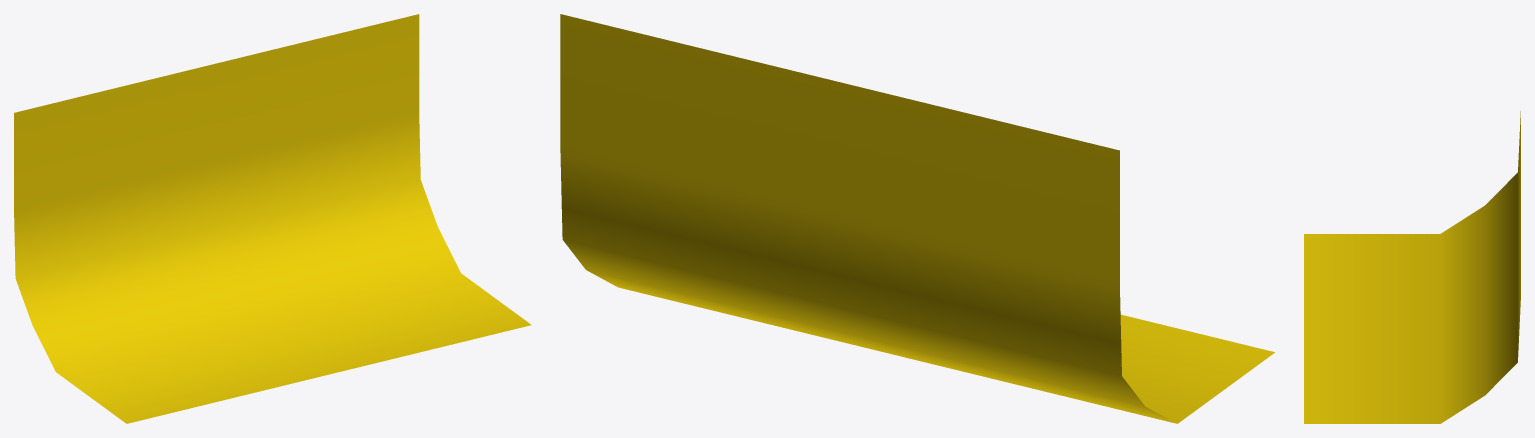
File: wild_background.gltf
3 views of the same model, side by side, from view 1: azimuth 30°, elevation 25°; view 2: azimuth 150°, elevation 25°; view 3: azimuth 270°, elevation 25° (orthographic). The views are drawn at different scales.
Visible parts, largest first — view 1: wild_background; view 2: wild_background; view 3: wild_background.
Part boxes in pixels (x1=…): wild_background: x1=14, y1=14, x2=531, y2=423; wild_background: x1=560, y1=14, x2=1274, y2=423; wild_background: x1=1304, y1=111, x2=1520, y2=423.
Bounding box in the file's own units: 12.98 × 7 × 6.25.
